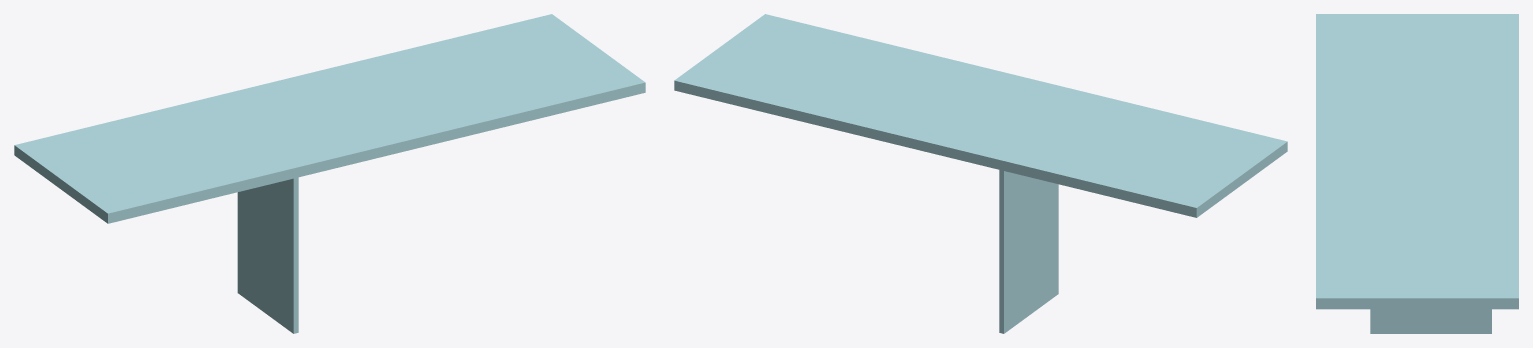
Rendered from 62921215-min.gltf.
3 renders of one model, left to right at view 1: azimuth 30°, elevation 25°; view 2: azimuth 150°, elevation 25°; view 3: azimuth 270°, elevation 25°, orthographic. The views are drawn at different scales.
Visible parts, largest first — view 1: {B20BC33D-3791-40c1-B4E7-E0A3A815E0FC}_Node, {EEF253AB-8C07-4008-AE13-3AAEA2E42C23}_Node; view 2: {B20BC33D-3791-40c1-B4E7-E0A3A815E0FC}_Node, {EEF253AB-8C07-4008-AE13-3AAEA2E42C23}_Node; view 3: {B20BC33D-3791-40c1-B4E7-E0A3A815E0FC}_Node, {EEF253AB-8C07-4008-AE13-3AAEA2E42C23}_Node.
Boxes of the visible parts, left/top/right/bottom form: {B20BC33D-3791-40c1-B4E7-E0A3A815E0FC}_Node: left=14, top=14, right=645, bottom=223; {EEF253AB-8C07-4008-AE13-3AAEA2E42C23}_Node: left=237, top=177, right=298, bottom=333; {B20BC33D-3791-40c1-B4E7-E0A3A815E0FC}_Node: left=674, top=14, right=1287, bottom=217; {EEF253AB-8C07-4008-AE13-3AAEA2E42C23}_Node: left=999, top=170, right=1058, bottom=333; {B20BC33D-3791-40c1-B4E7-E0A3A815E0FC}_Node: left=1316, top=14, right=1518, bottom=309; {EEF253AB-8C07-4008-AE13-3AAEA2E42C23}_Node: left=1370, top=309, right=1491, bottom=333.
Bounding box in the file's own units: 2.09 × 0.706 × 0.63.
Materials: 2 (2 with a texture image).
